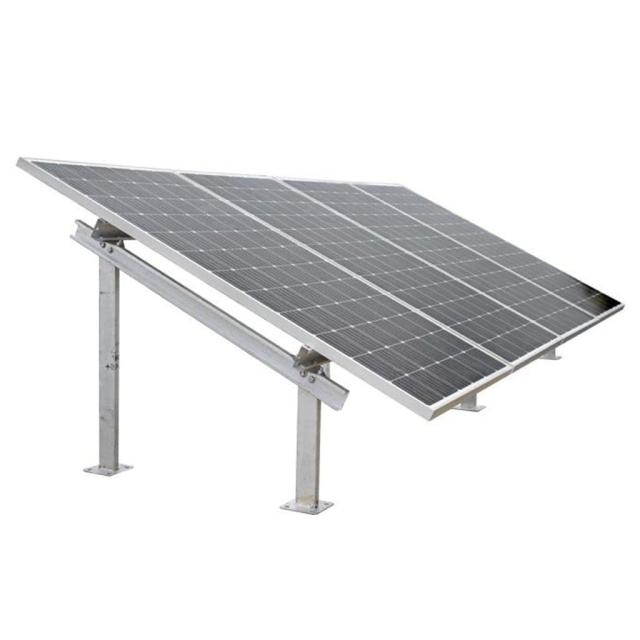clean-solar-panel: (19, 159, 622, 419)
